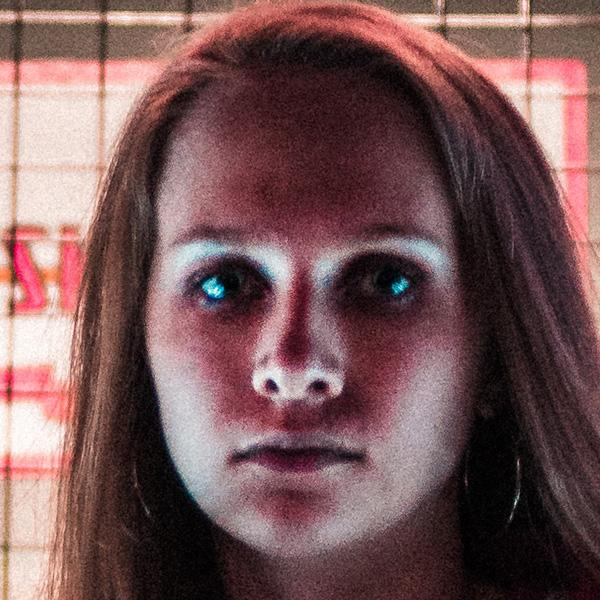Eyes: (332, 245, 431, 324), (179, 249, 271, 318)
